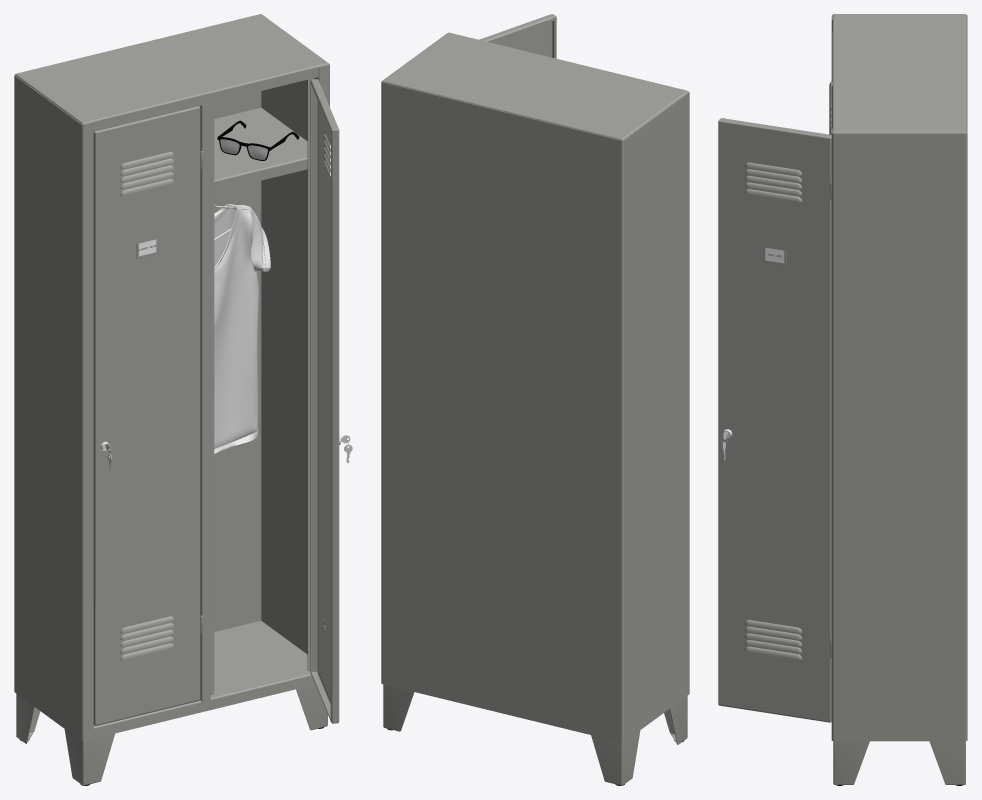
The model's file is Locker.fbx.
3 views of the same model, side by side, from view 1: azimuth 30°, elevation 25°; view 2: azimuth 150°, elevation 25°; view 3: azimuth 270°, elevation 25° (orthographic). The views are drawn at different scales.
Visible parts, largest first — view 1: wall, door.001, top, door.002, t_shirt, column, base, top.int, foots, glasses; view 2: wall, top, foots, door.002; view 3: wall, door.002, top, foots.
Boxes of the visible parts, x1,y1,x2,y2 form: wall: (14, 63, 329, 741); door.001: (93, 106, 200, 725); top: (15, 14, 328, 131); door.002: (310, 79, 339, 723); t_shirt: (214, 204, 270, 454); column: (199, 102, 214, 702); base: (93, 620, 315, 738); top.int: (214, 107, 307, 191); foots: (16, 684, 327, 785); glasses: (217, 120, 299, 160); wall: (381, 81, 689, 742); top: (382, 32, 688, 140); foots: (383, 684, 687, 785); door.002: (479, 14, 557, 58); wall: (831, 15, 967, 741); door.002: (718, 118, 831, 722); top: (832, 14, 966, 133); foots: (833, 741, 965, 784).
Bounding box in the file's own units: 69.4 × 178 × 61.26.
11 materials, 3 textured.
